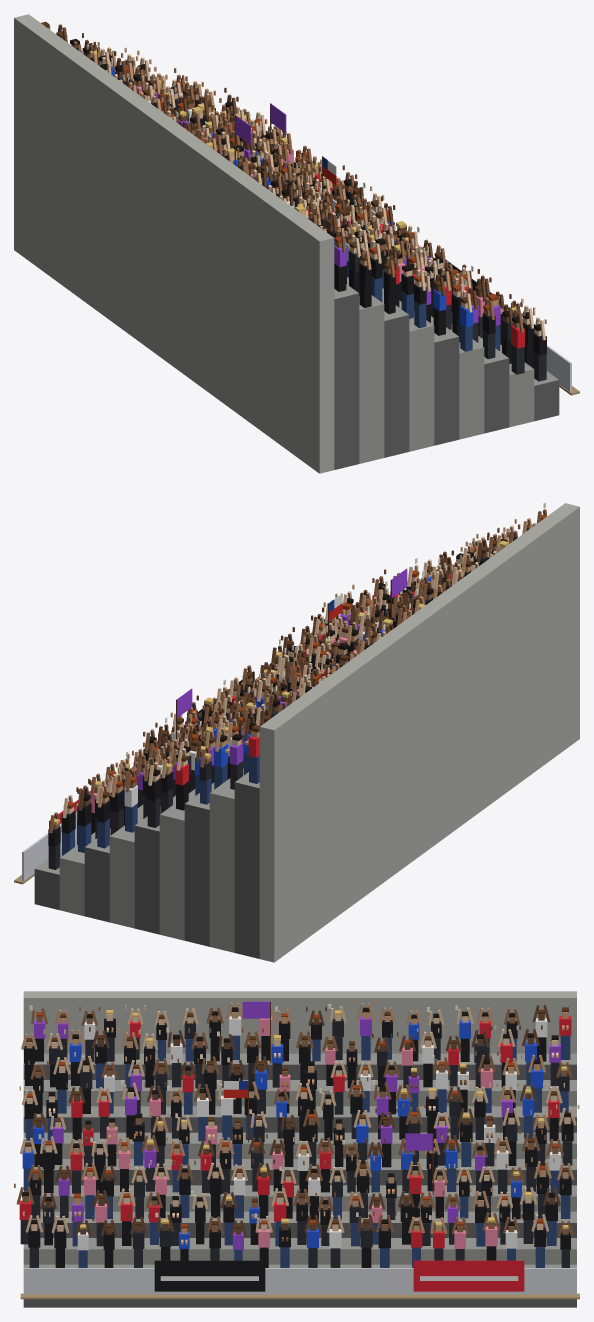
Rendered from hinchada_estadio_3.obj.
The picture shows the model from 3 angles, top to bottom: view 1: azimuth 30°, elevation 25°; view 2: azimuth 150°, elevation 25°; view 3: azimuth 270°, elevation 25°; orthographic projection. The views are drawn at different scales.
Parts seen in each view (by area): view 1: hinchada_estadio_3; view 2: hinchada_estadio_3; view 3: hinchada_estadio_3.
Boxes of the visible parts, left/top/right/bottom form: hinchada_estadio_3: left=14, top=14, right=579, bottom=473; hinchada_estadio_3: left=14, top=502, right=579, bottom=962; hinchada_estadio_3: left=14, top=991, right=579, bottom=1307.
Bounding box in the file's own units: 8.8 × 8 × 18.41.
